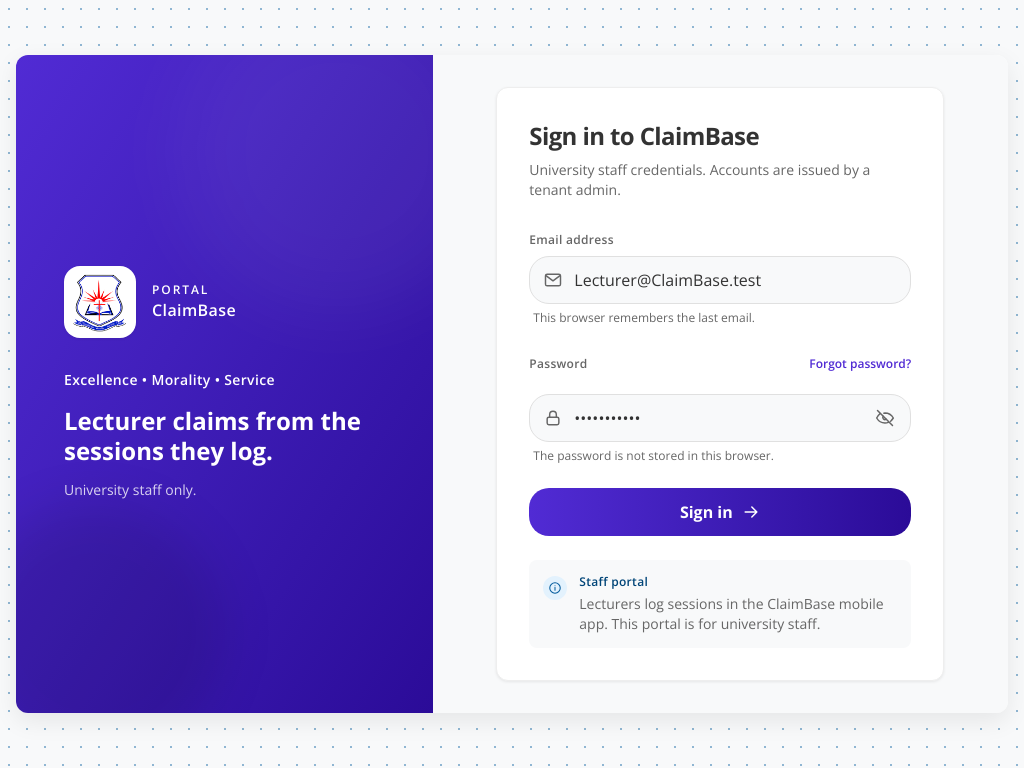
Scenario: LoginComponent › clears a lecturer token and shows the mobile app message
Click the submit button at (720, 512), box [529,488,911,536]
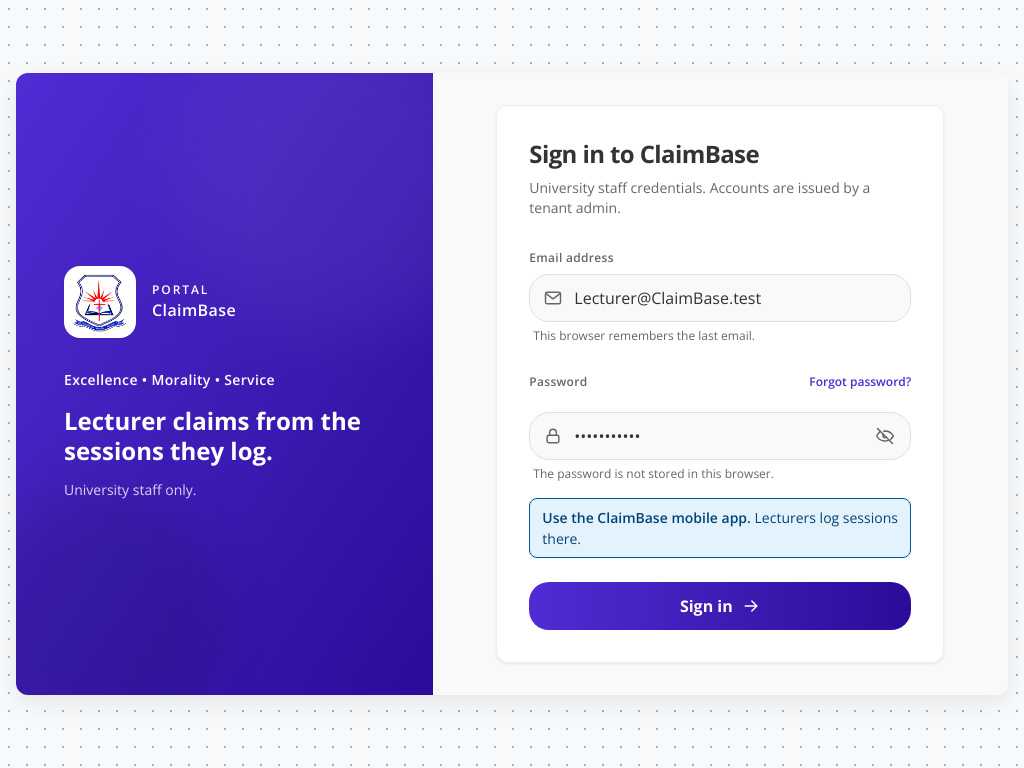
Expected: the message with class "cb-note" shows "Use the ClaimBase mobile app", [542,508,751,527]
